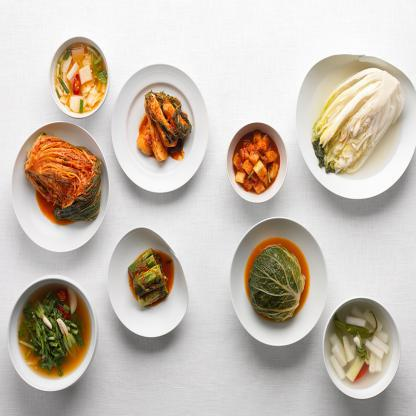kimchi: (19, 128, 108, 233)
